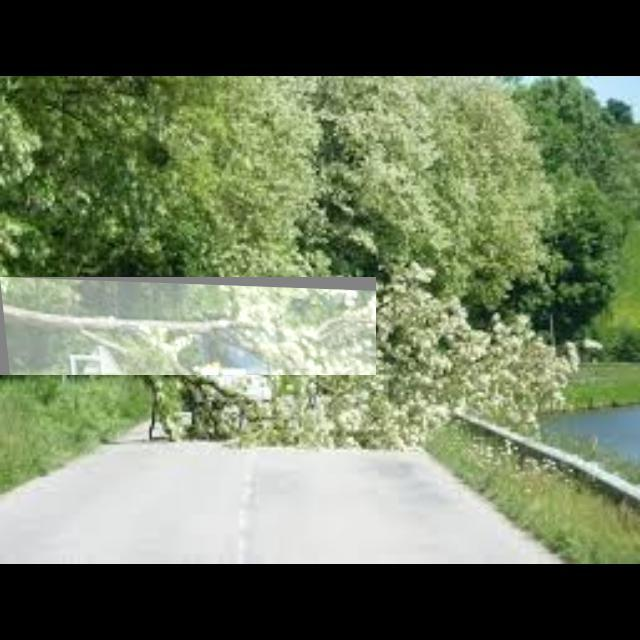fallen_tree: (0, 277, 377, 376)
